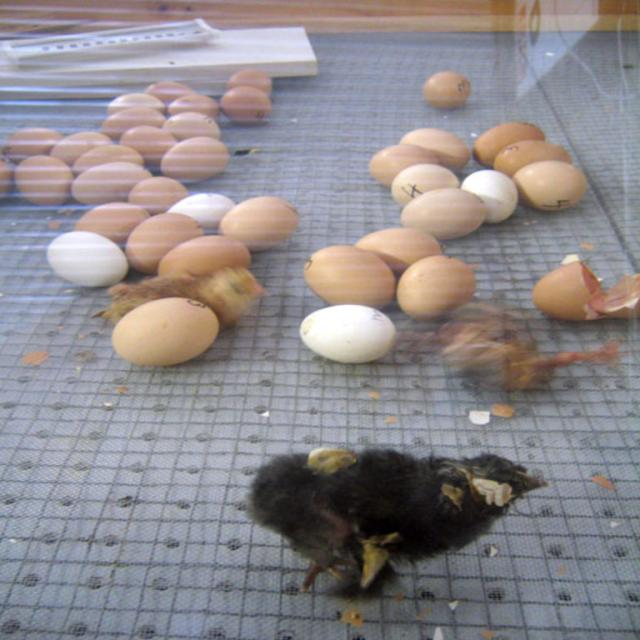Egg: (0, 132, 220, 266), (398, 120, 587, 222), (106, 298, 223, 370), (290, 304, 404, 365), (304, 246, 392, 310), (394, 252, 476, 318), (417, 68, 469, 106)
